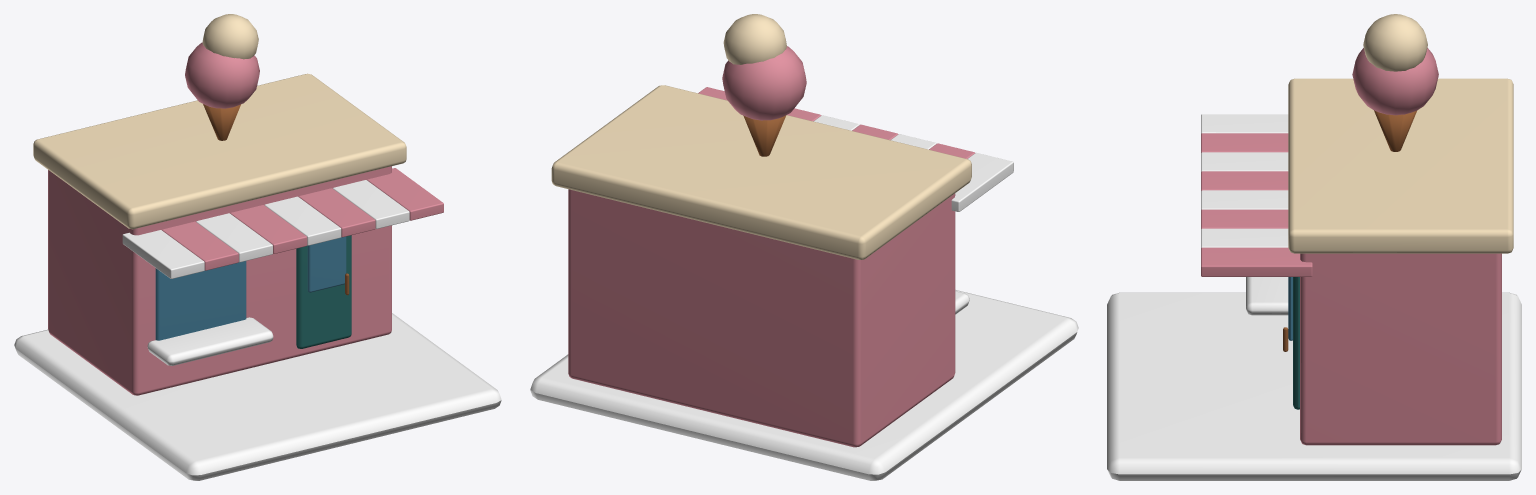
File: ice-cream.glb
3 renders of one model, left to right at view 1: azimuth 30°, elevation 25°; view 2: azimuth 150°, elevation 25°; view 3: azimuth 270°, elevation 25°, orthographic. The views are drawn at different scales.
Visible parts, largest first — view 1: Batch_Porcelain_, Batch_Petal pink_, Batch_Warm plaster_, ShopWindow, Door, Door glass, Giant cone; view 2: Batch_Petal pink_, Batch_Warm plaster_, Batch_Porcelain_, Giant cone; view 3: Batch_Porcelain_, Batch_Petal pink_, Batch_Warm plaster_, Giant cone, Door.
Part boxes in pixels (<box>): Batch_Porcelain_: <box>14,180,501,480</box>; Batch_Petal pink_: <box>48,42,443,395</box>; Batch_Warm plaster_: <box>33,14,406,229</box>; ShopWindow: <box>155,261,246,340</box>; Door: <box>296,235,351,348</box>; Door glass: <box>307,236,346,292</box>; Giant cone: <box>203,104,240,140</box>; Batch_Petal pink_: <box>568,46,974,447</box>; Batch_Warm plaster_: <box>551,14,971,259</box>; Batch_Porcelain_: <box>530,115,1078,480</box>; Giant cone: <box>743,115,786,156</box>; Batch_Porcelain_: <box>1107,114,1521,480</box>; Batch_Petal pink_: <box>1201,48,1501,445</box>; Batch_Warm plaster_: <box>1288,14,1513,253</box>; Giant cone: <box>1374,110,1417,151</box>; Door: <box>1293,277,1299,409</box>.
Bounding box in the file's own units: 2.3 × 2.36 × 2.3.
